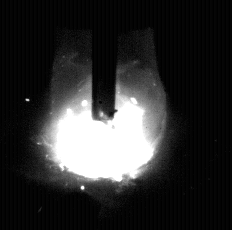arame: (92, 0, 117, 120)
poca: (44, 0, 166, 230)
